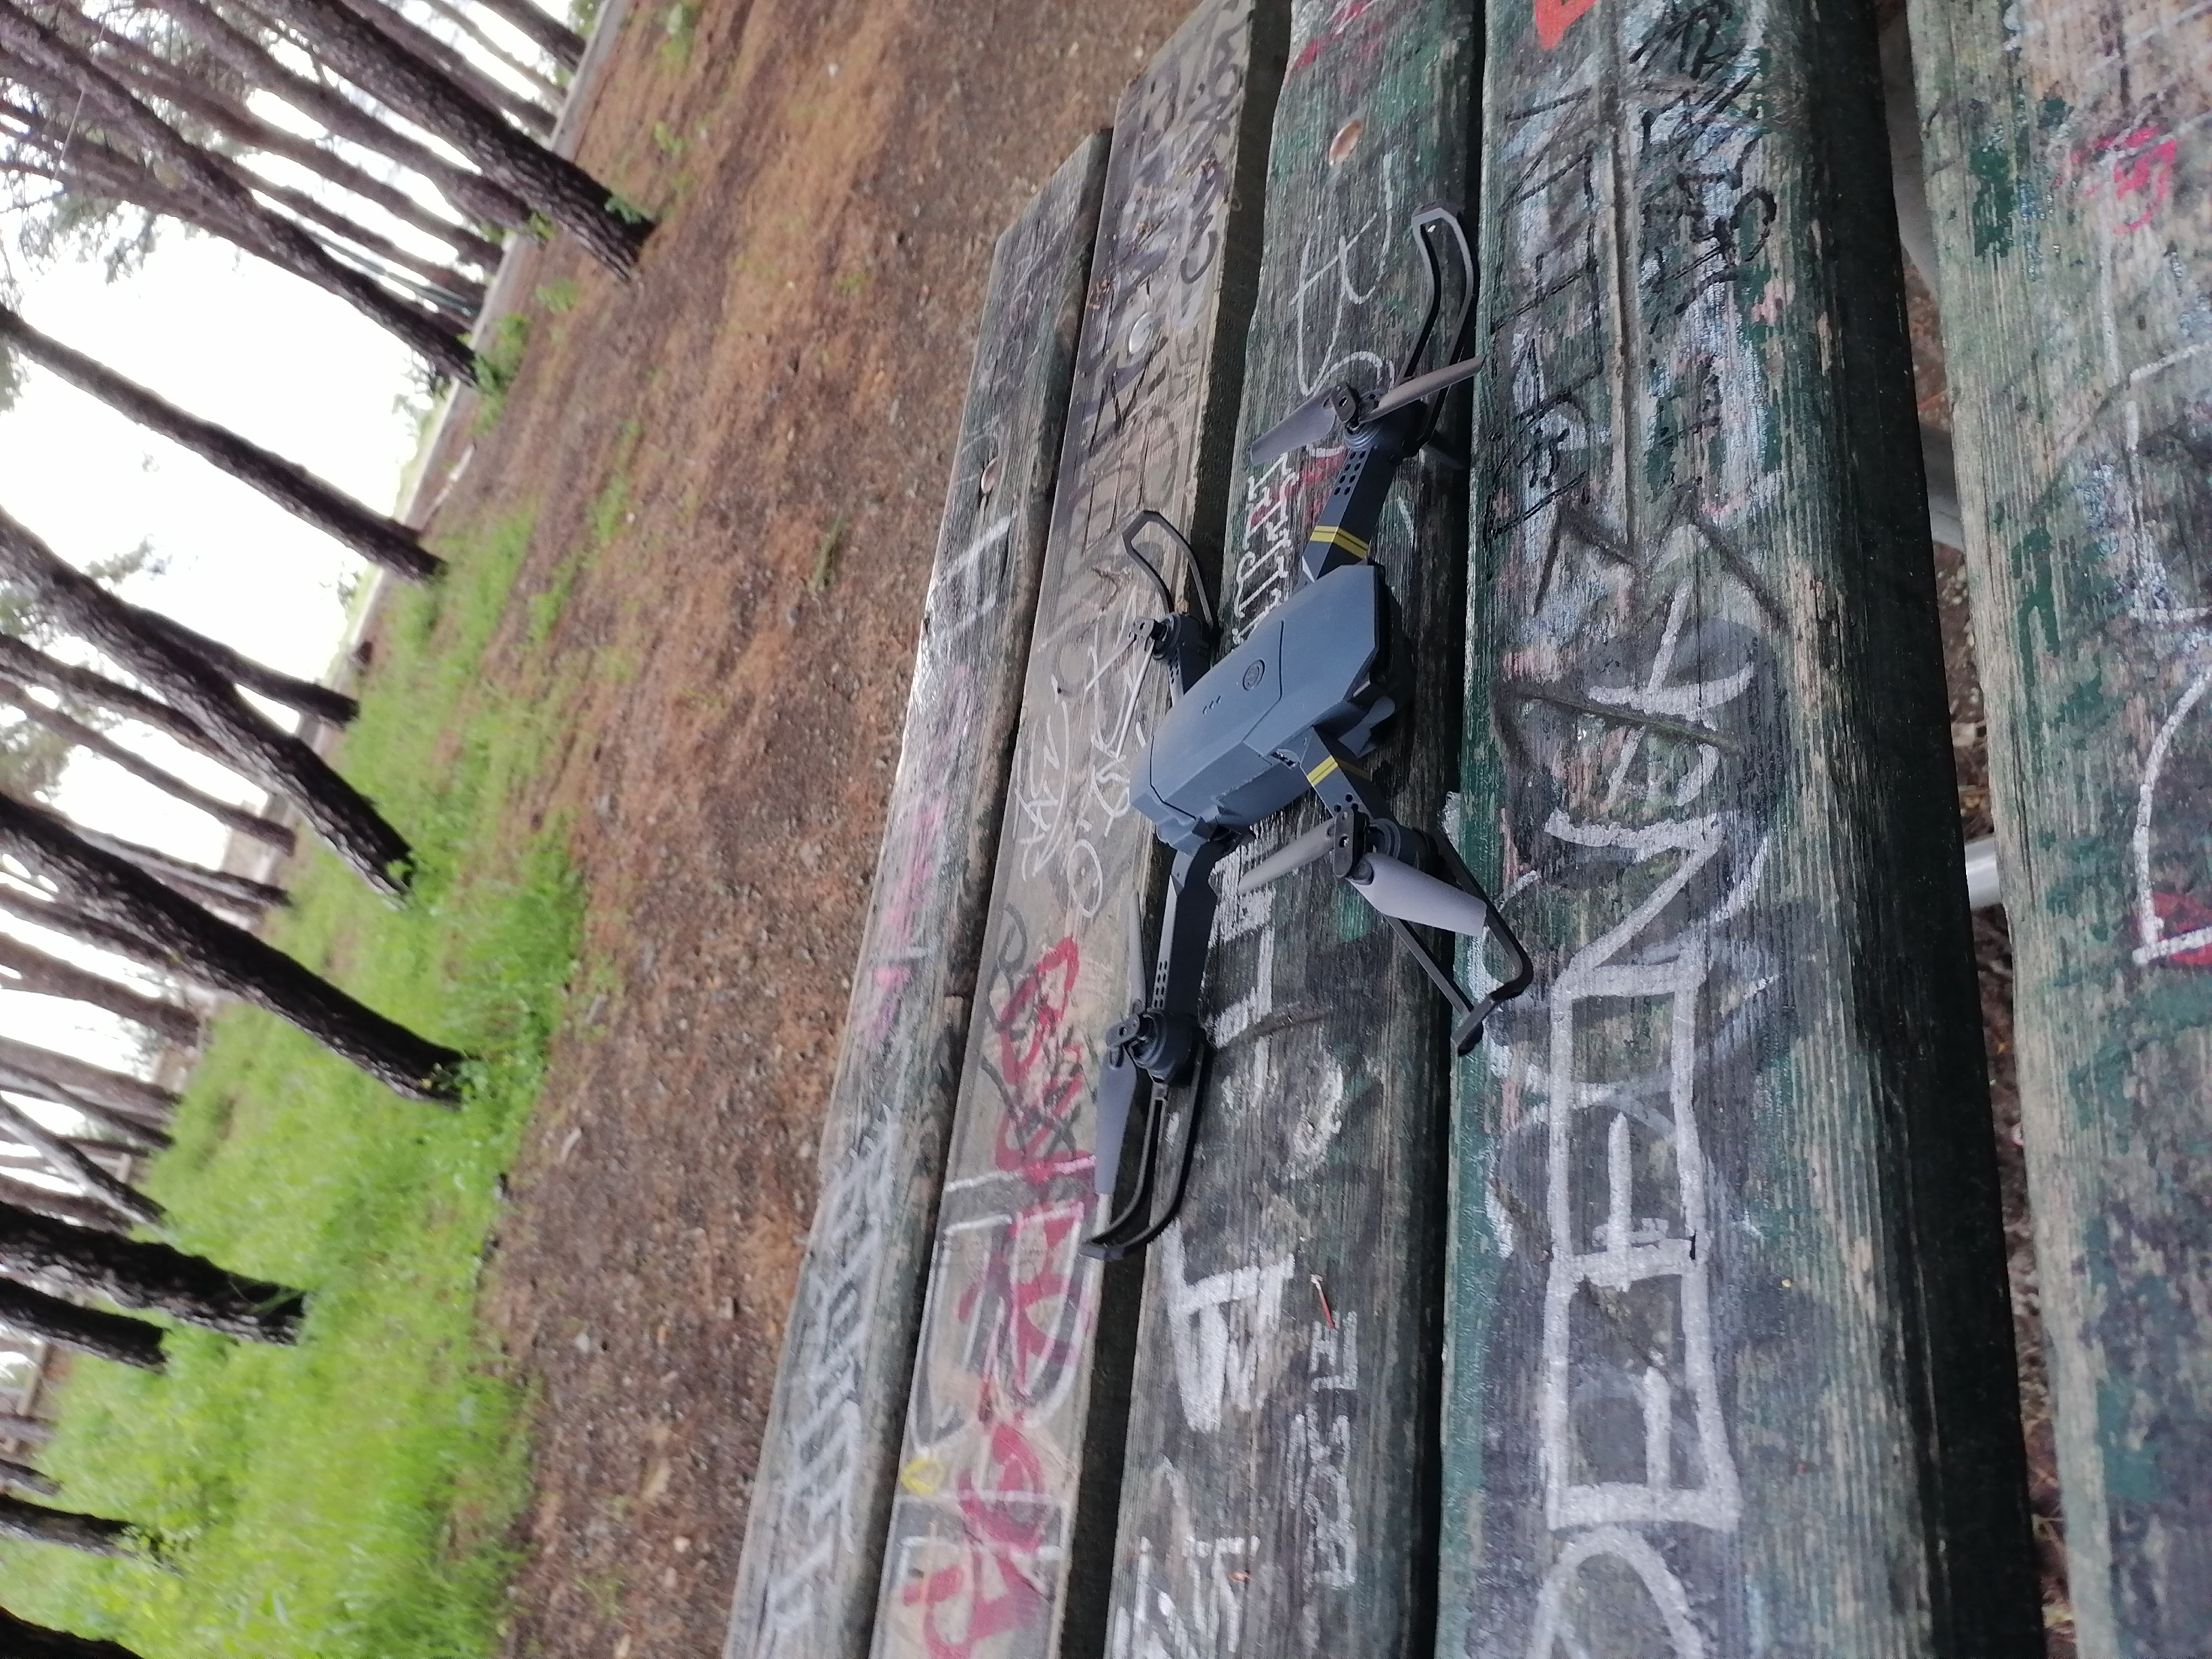drone: (1059, 464, 1588, 1206)
